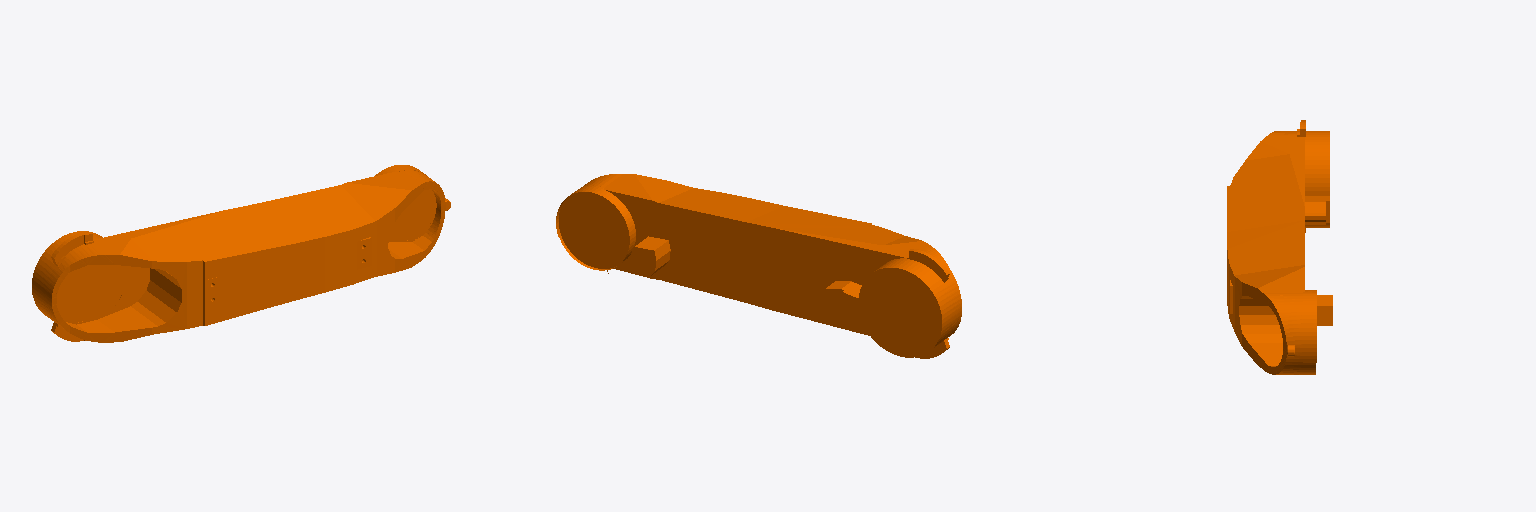
Rendered from Eslabon2.obj.
The picture shows the model from 3 angles: view 1: azimuth 30°, elevation 25°; view 2: azimuth 150°, elevation 25°; view 3: azimuth 270°, elevation 25°; orthographic projection.
Visible parts, largest first — view 1: default; view 2: default; view 3: default.
Part boxes in pixels (left/top/right/bottom): default: left=32, top=165, right=450, bottom=342; default: left=556, top=174, right=961, bottom=358; default: left=1227, top=120, right=1332, bottom=374.
Bounding box in the file's own units: 0.8637 × 0.2193 × 0.1995.